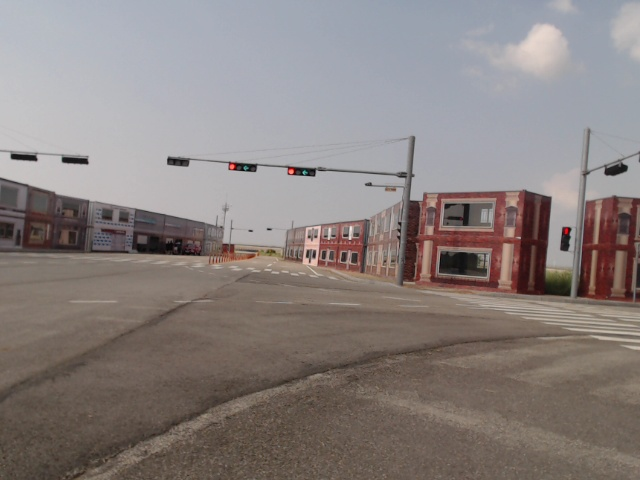left_green_4: (229, 162, 256, 171), (289, 168, 315, 176)
